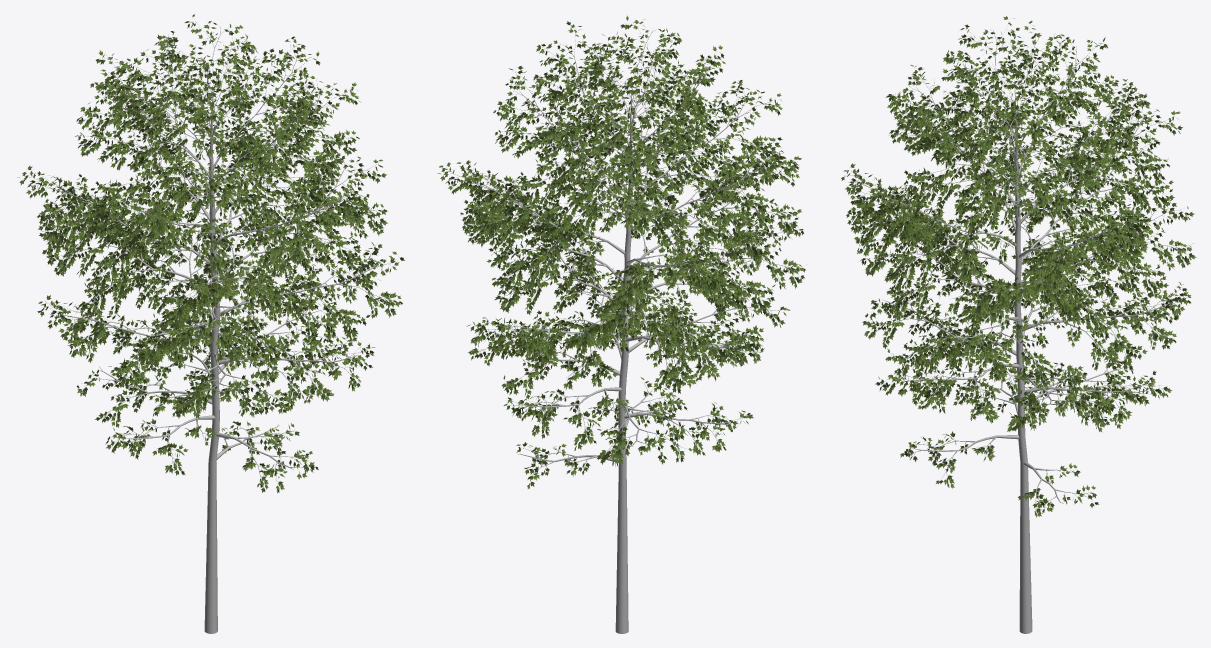
The picture shows the model from 3 angles, left to right: view 1: azimuth 30°, elevation 25°; view 2: azimuth 150°, elevation 25°; view 3: azimuth 270°, elevation 25°; orthographic projection.
Visible parts, largest first — view 1: WGJ_Trident_Map.Shape; view 2: WGJ_Trident_Map.Shape; view 3: WGJ_Trident_Map.Shape.
Part boxes in pixels (box(x1,y1,x2,y2)): WGJ_Trident_Map.Shape: box(17, 14, 404, 633); WGJ_Trident_Map.Shape: box(437, 15, 805, 633); WGJ_Trident_Map.Shape: box(841, 16, 1196, 633).
Bounding box in the file's own units: 3.59 × 6.31 × 3.48.
3 materials, 1 textured.
